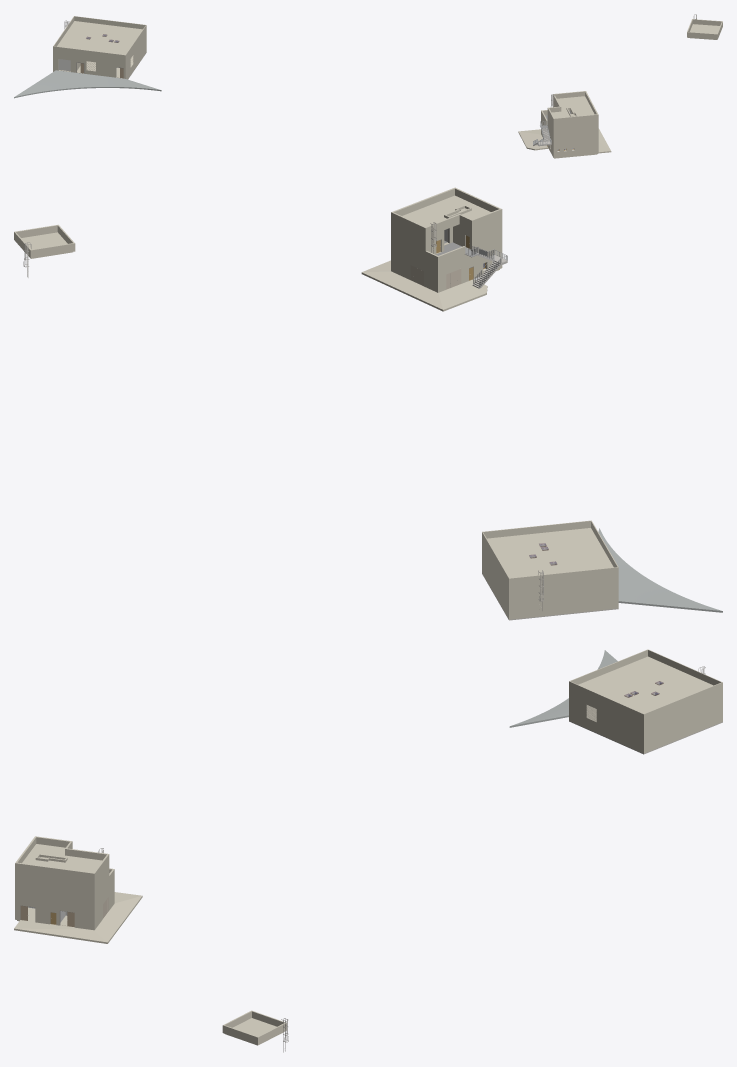
3 renders of one model, top to bottom at view 1: azimuth 30°, elevation 25°; view 2: azimuth 150°, elevation 25°; view 3: azimuth 270°, elevation 25°, orthographic. The views are drawn at different scales.
Parts seen in each view (by area): view 1: 00rEZXZ1r5wehxCF8pTi8k, 22ob_CETT5D8Cgb1$e3ca9, 3IsxM_0fj8lvgXTT8agEQ6, 2pPDlOOrf35wdUcODVV89t, 0rkNXONLP5SwBO9lS$jNw1, 2qrzXSXND1IexnRzCeDUL9, 3M5yA6LY9EIfDfEPVvsCaW, 3x9pJTqGDDOPjZVIymk0Os, 3x9pJTqGDDOPjZVIymk0Oq, 3IsxM_0fj8lvgXTT8agEap, 1FTFzREEPBnxVLCDmDt3o2, 3m$vQ26Nj1CAotdd27NJbp; view 2: 00rEZXZ1r5wehxCF8pTi8k, 1Cy5hFu6HFdvVneTNP7ace, 22ob_CETT5D8Cgb1$e3ca9, 3M5yA6LY9EIfDfEPVvsCaW, 2qrzXSXND1IexnRzCeDUL9, 3x9pJTqGDDOPjZVIymk0Ov, 0rkNXONLP5SwBO9lS$jNuE, 2pPDlOOrf35wdUcODVV89n, 0rkNXONLP5SwBO9lS$jN54, 3x9pJTqGDDOPjZVIymk0PH, 3x9pJTqGDDOPjZVIymk0Ot, 2pPDlOOrf35wdUcODVV89q (+1 smaller); view 3: 00rEZXZ1r5wehxCF8pTi8k, 3M5yA6LY9EIfDfEPVvsCaW, 2pPDlOOrf35wdUcODVV89s, 3IsxM_0fj8lvgXTT8agEa1, 3IsxM_0fj8lvgXTT8agEap, 0rkNXONLP5SwBO9lS$jNx8, 2qrzXSXND1IexnRzCeDUL9, 3x9pJTqGDDOPjZVIymk0PH, 1FTFzREEPBnxVLCDmDt3pT, 3x9pJTqGDDOPjZVIymk0Oq, 3x9pJTqGDDOPjZVIymk0Ot, 22ob_CETT5D8Cgb1$e3ca9.
Boxes of the visible parts, left/top/right/bottom form: 00rEZXZ1r5wehxCF8pTi8k: left=57, top=21, right=142, bottom=54; 22ob_CETT5D8Cgb1$e3ca9: left=14, top=70, right=161, bottom=98; 3IsxM_0fj8lvgXTT8agEQ6: left=54, top=52, right=125, bottom=78; 2pPDlOOrf35wdUcODVV89t: left=553, top=121, right=596, bottom=142; 0rkNXONLP5SwBO9lS$jNw1: left=553, top=138, right=596, bottom=157; 2qrzXSXND1IexnRzCeDUL9: left=551, top=96, right=594, bottom=118; 3M5yA6LY9EIfDfEPVvsCaW: left=518, top=128, right=611, bottom=153; 3x9pJTqGDDOPjZVIymk0Os: left=53, top=46, right=125, bottom=61; 3x9pJTqGDDOPjZVIymk0Oq: left=74, top=16, right=145, bottom=29; 3IsxM_0fj8lvgXTT8agEap: left=126, top=31, right=146, bottom=77; 1FTFzREEPBnxVLCDmDt3o2: left=553, top=114, right=597, bottom=124; 3m$vQ26Nj1CAotdd27NJbp: left=688, top=24, right=719, bottom=39; 00rEZXZ1r5wehxCF8pTi8k: left=487, top=528, right=613, bottom=577; 1Cy5hFu6HFdvVneTNP7ace: left=508, top=576, right=618, bottom=613; 22ob_CETT5D8Cgb1$e3ca9: left=598, top=528, right=722, bottom=612; 3M5yA6LY9EIfDfEPVvsCaW: left=361, top=260, right=487, bottom=311; 2qrzXSXND1IexnRzCeDUL9: left=402, top=195, right=490, bottom=226; 3x9pJTqGDDOPjZVIymk0Ov: left=509, top=567, right=618, bottom=587; 0rkNXONLP5SwBO9lS$jNuE: left=391, top=248, right=440, bottom=292; 2pPDlOOrf35wdUcODVV89n: left=391, top=221, right=427, bottom=263; 0rkNXONLP5SwBO9lS$jN54: left=440, top=246, right=499, bottom=291; 3x9pJTqGDDOPjZVIymk0PH: left=482, top=567, right=618, bottom=619; 3x9pJTqGDDOPjZVIymk0Ot: left=482, top=520, right=590, bottom=540; 2pPDlOOrf35wdUcODVV89q: left=470, top=219, right=499, bottom=252; 00rEZXZ1r5wehxCF8pTi8k: left=578, top=656, right=713, bottom=713; 3M5yA6LY9EIfDfEPVvsCaW: left=14, top=892, right=142, bottom=943; 2pPDlOOrf35wdUcODVV89s: left=15, top=872, right=91, bottom=907; 3IsxM_0fj8lvgXTT8agEa1: left=645, top=692, right=721, bottom=747; 3IsxM_0fj8lvgXTT8agEap: left=570, top=691, right=645, bottom=747; 0rkNXONLP5SwBO9lS$jNx8: left=15, top=897, right=91, bottom=929; 2qrzXSXND1IexnRzCeDUL9: left=22, top=844, right=102, bottom=872; 3x9pJTqGDDOPjZVIymk0PH: left=569, top=715, right=722, bottom=753; 1FTFzREEPBnxVLCDmDt3pT: left=15, top=862, right=92, bottom=882; 3x9pJTqGDDOPjZVIymk0Oq: left=644, top=682, right=722, bottom=722; 3x9pJTqGDDOPjZVIymk0Ot: left=569, top=681, right=644, bottom=722; 22ob_CETT5D8Cgb1$e3ca9: left=509, top=650, right=617, bottom=727.
Bounding box in the file's own units: 161 × 11.25 × 116.
